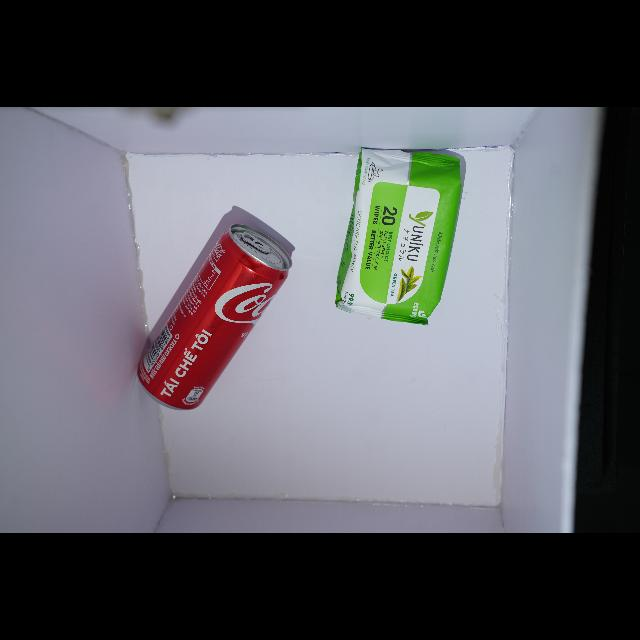coca_cola: (138, 224, 292, 410)
khan_giay: (337, 149, 463, 324)
